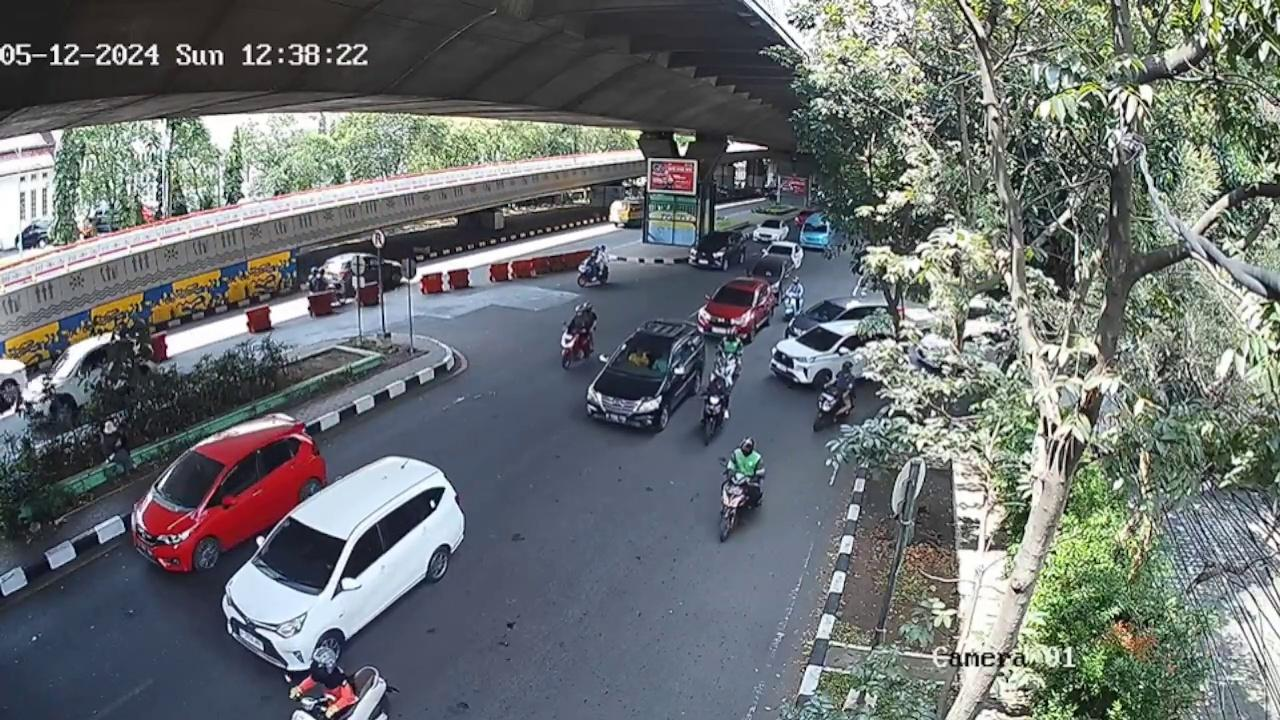tidak-pakai: (628, 351, 646, 368), (655, 357, 667, 372)
windshield: (258, 519, 349, 591), (160, 452, 224, 513), (607, 340, 671, 378)
